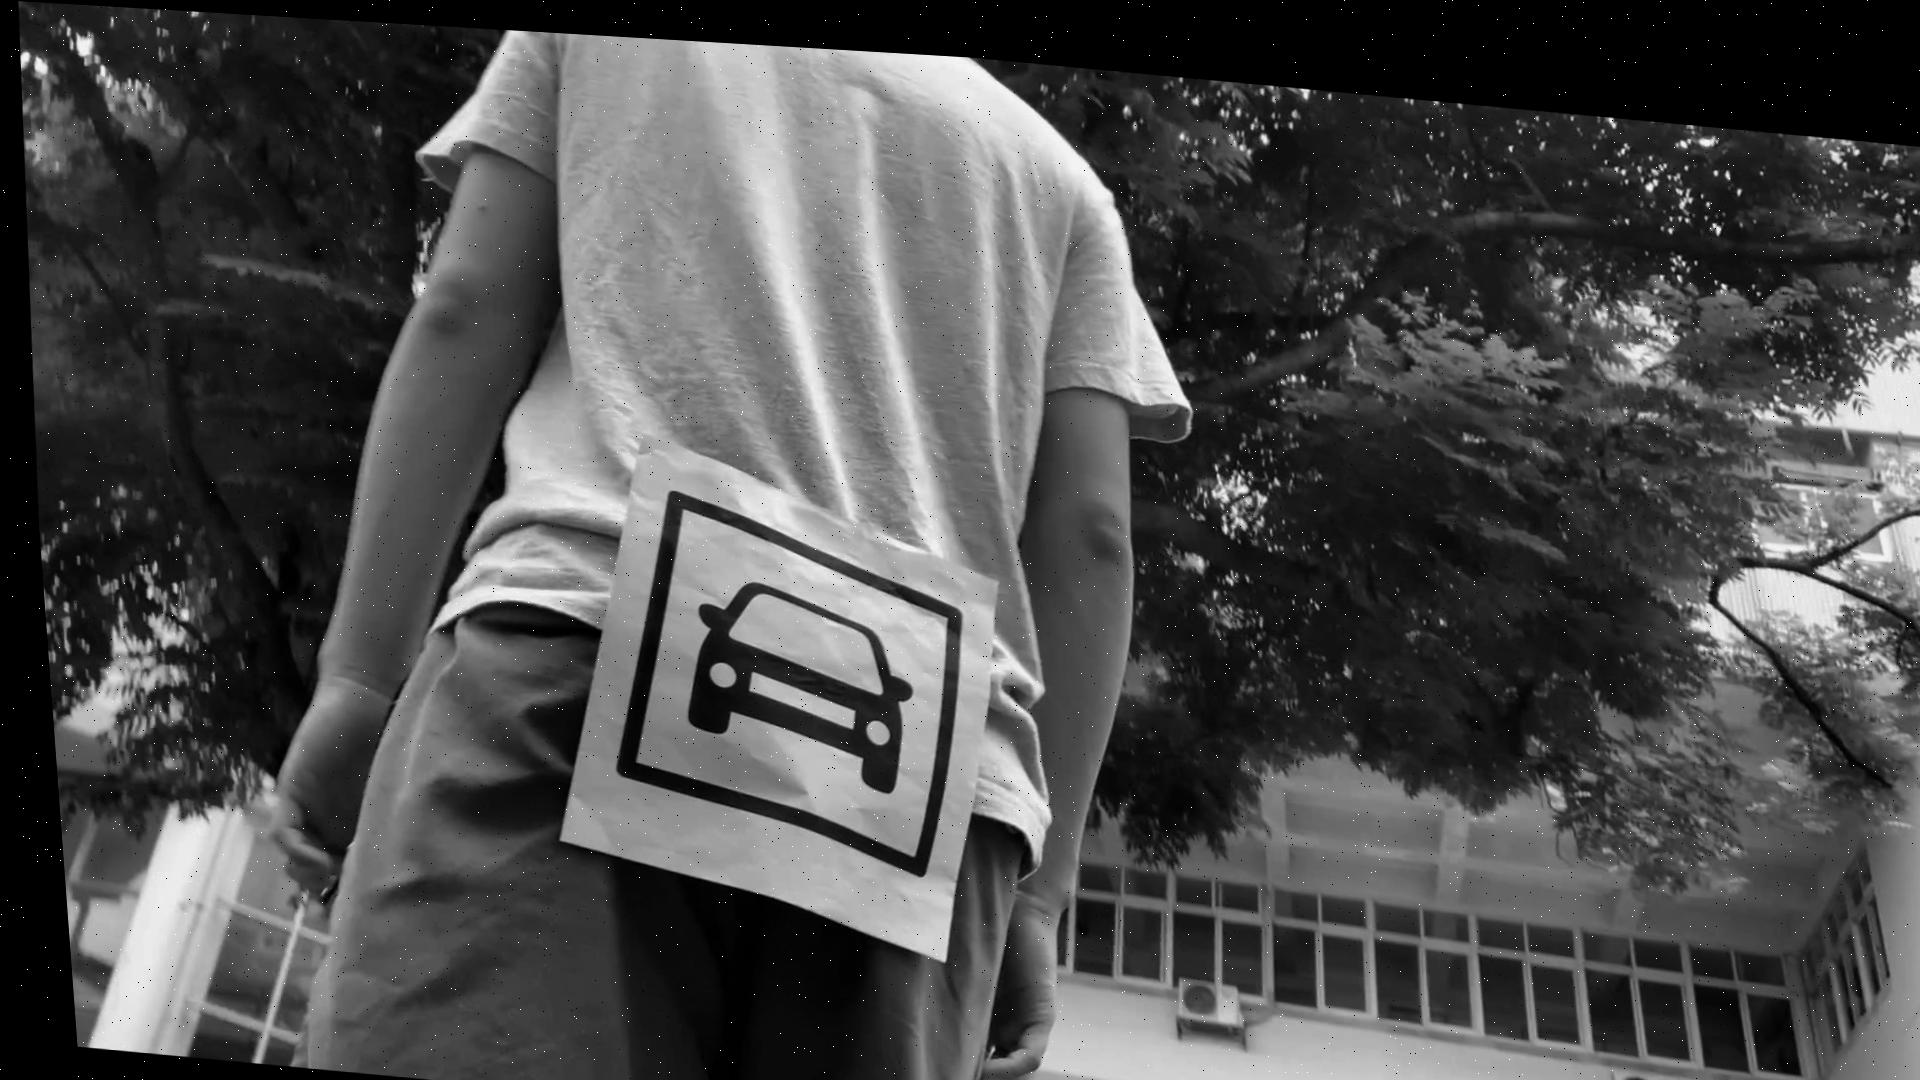car_img: (587, 475, 973, 872)
